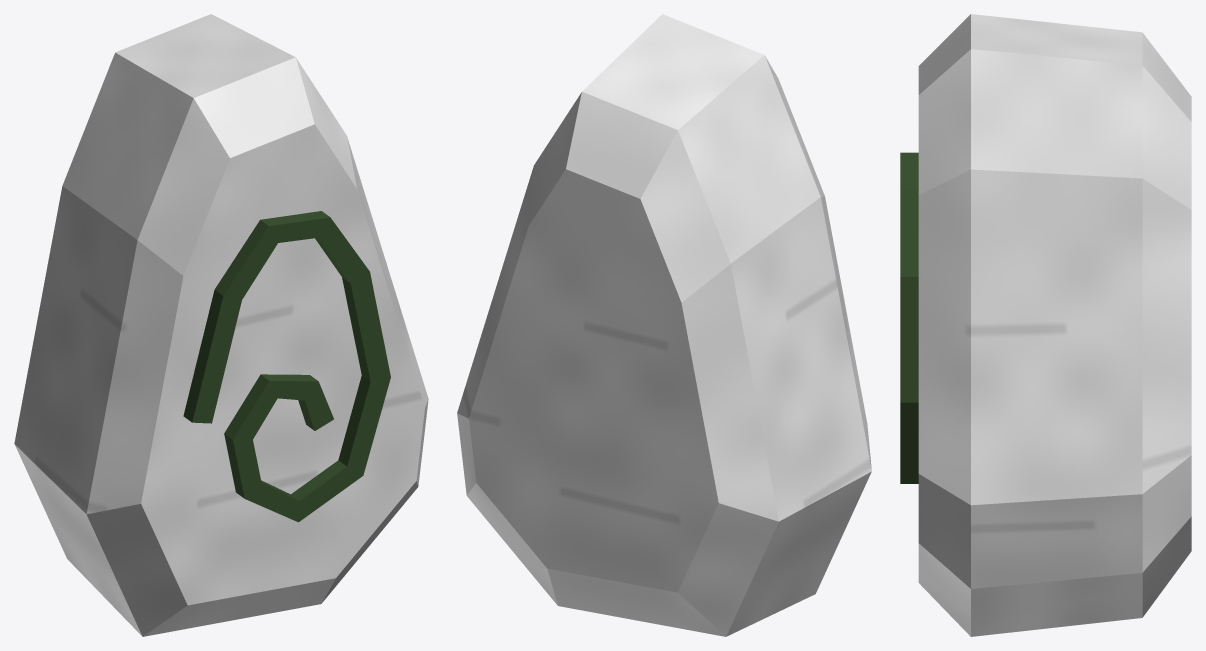
The model's file is animus_stone.obj.
The picture shows the model from 3 angles, left to right: view 1: azimuth 30°, elevation 25°; view 2: azimuth 150°, elevation 25°; view 3: azimuth 270°, elevation 25°; orthographic projection. The views are drawn at different scales.
Parts seen in each view (by area): view 1: animus_stone; view 2: animus_stone; view 3: animus_stone.
Boxes of the visible parts, box(x1,y1,x2,y2) form: animus_stone: box(14, 14, 428, 636); animus_stone: box(457, 14, 871, 636); animus_stone: box(900, 14, 1191, 636).
Size of the model in its own units: 0.67 by 1.03 by 0.475.
